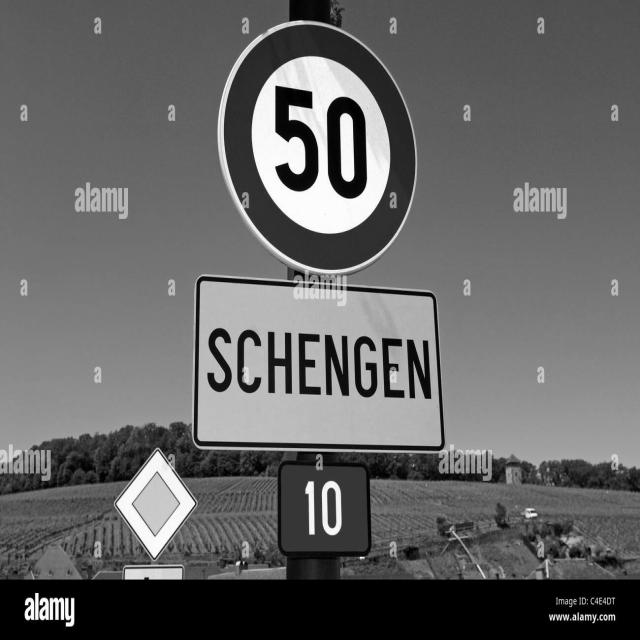speed_50: (218, 18, 420, 274)
